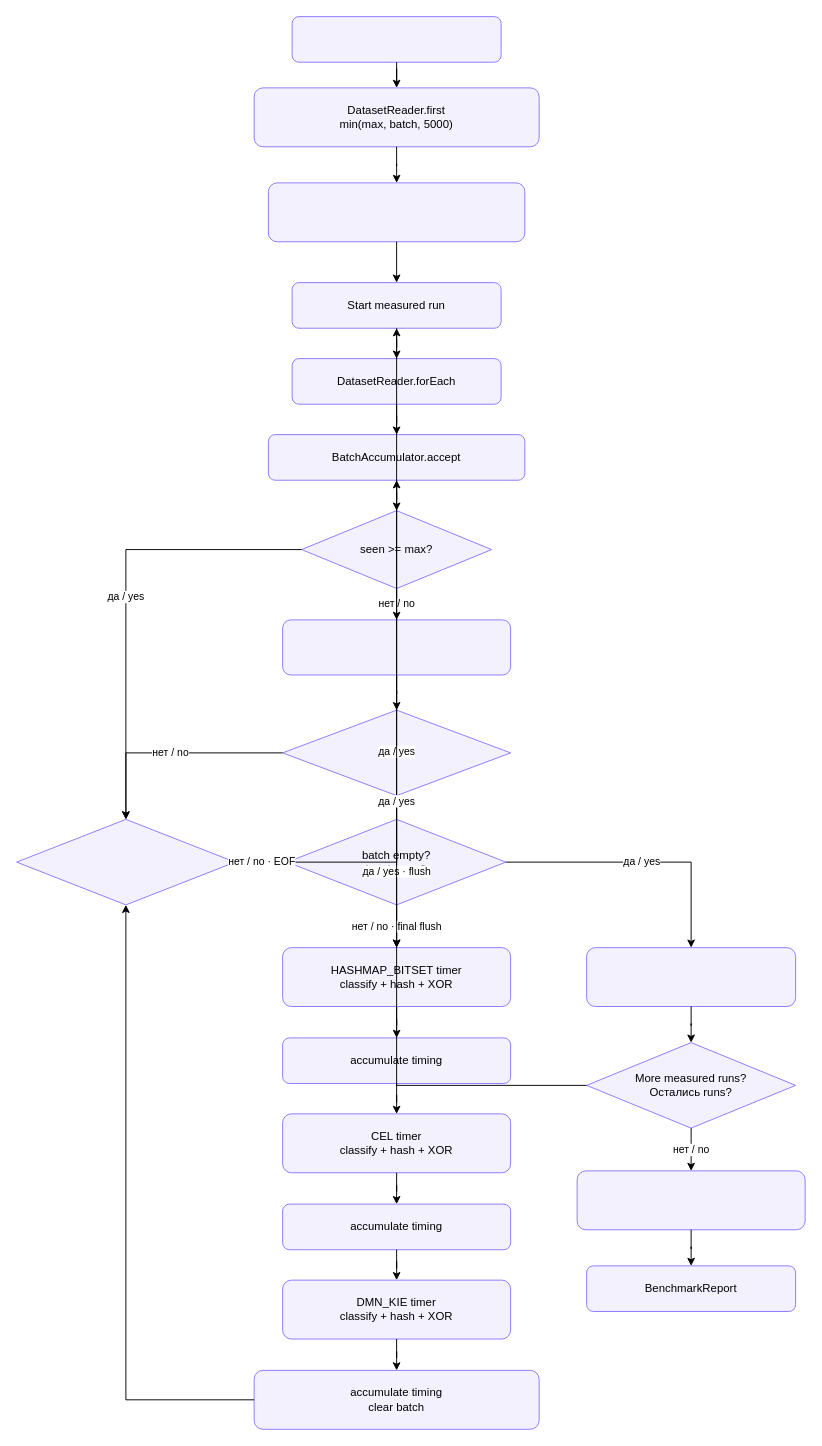
This 822x1446 diagram has some shape labels left out. Here are the shapes that lost their labels. From the top down, the box of each, then its label:
(291, 16, 501, 62): benchmark
(267, 182, 525, 242): Warmup × iterations sequential engines
(282, 619, 511, 675): seen++ add record to batch
(282, 709, 511, 796): batch.size >= batchSize?
(16, 818, 235, 905): Another record? Есть следующая?
(586, 947, 796, 1007): 3 × RunResult from MutableTiming
(576, 1170, 805, 1230): median / min / max per engine
